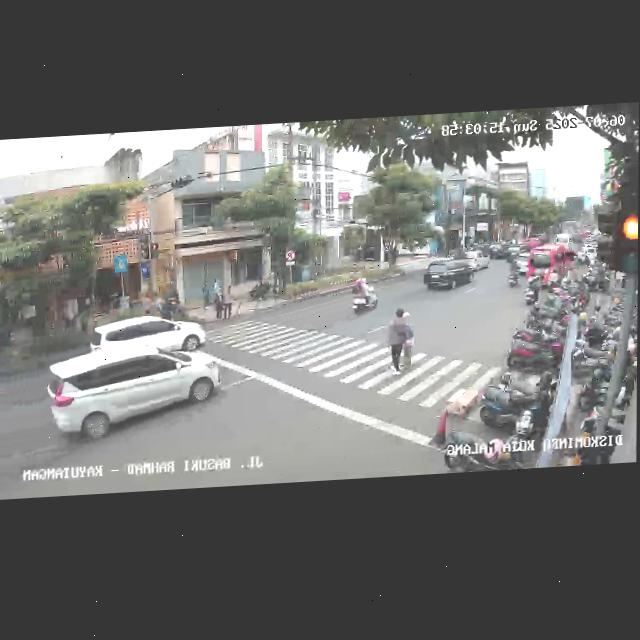car: (46, 345, 214, 450), (86, 313, 207, 359), (528, 241, 578, 289), (423, 257, 475, 295), (486, 244, 508, 263)
motorcycle: (350, 276, 379, 319), (525, 273, 542, 309), (506, 258, 520, 289)
person: (387, 307, 406, 377), (403, 310, 416, 371), (223, 283, 235, 319), (214, 286, 224, 322)
